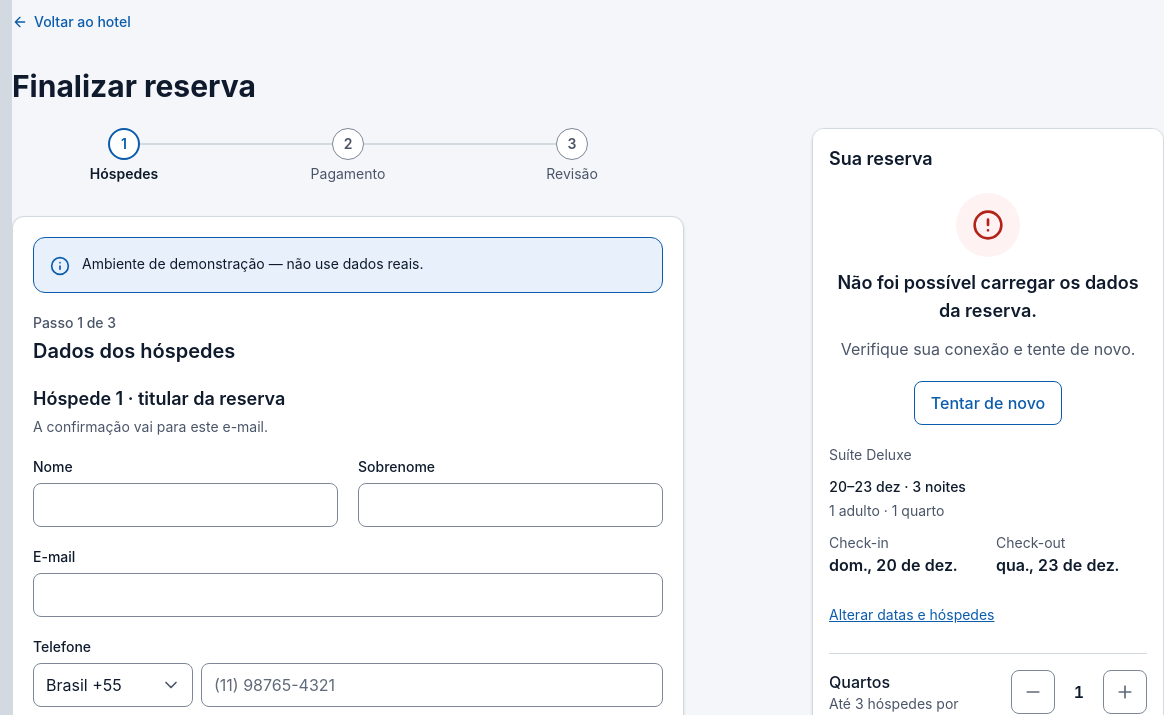
it: erro por seção (critério 9) › erro do hotel: só o topo do resumo mostra erro; datas e preço seguem
Expected: the heading "Não foi possível carregar os dados da reserva." is shown, [829,269,1147,325]
Click the button "Tentar de novo" at coordinates (988, 403), box [914,381,1062,425]
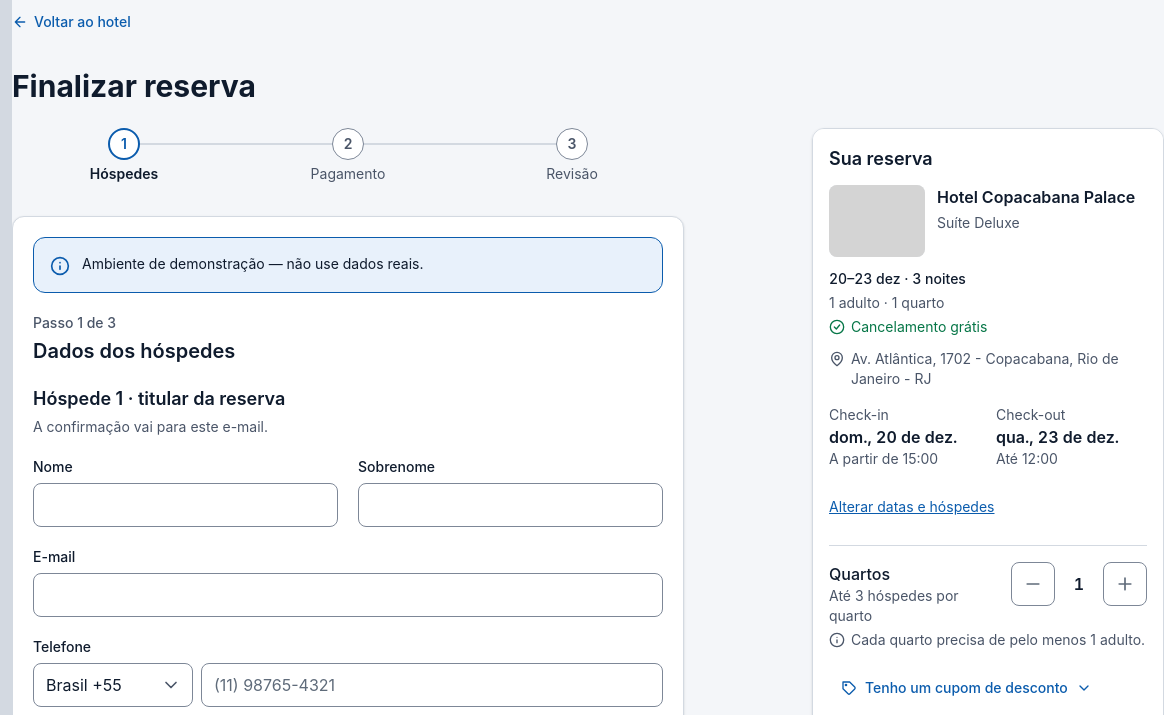
Expected: the text "Hotel Copacabana Palace" is shown, [937,185,1135,209]
